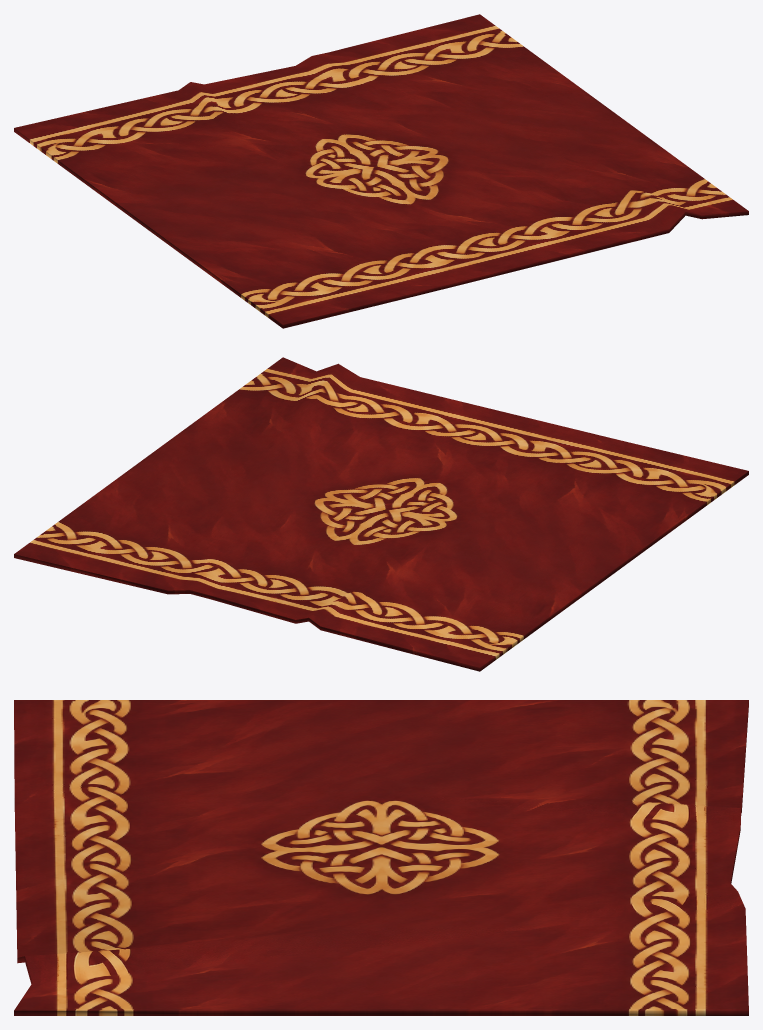
File: Carpet_01_03.fbx
The picture shows the model from 3 angles, top to bottom: view 1: azimuth 30°, elevation 25°; view 2: azimuth 150°, elevation 25°; view 3: azimuth 270°, elevation 25°; orthographic projection. The views are drawn at different scales.
Visible parts, largest first — view 1: Carpet_01.002; view 2: Carpet_01.002; view 3: Carpet_01.002.
Part boxes in pixels (x1,y1,x2,y2): Carpet_01.002: [14, 14, 748, 328]; Carpet_01.002: [14, 357, 748, 671]; Carpet_01.002: [14, 700, 748, 1015].
Bounding box in the file's own units: 2 × 2 × 0.0623.
